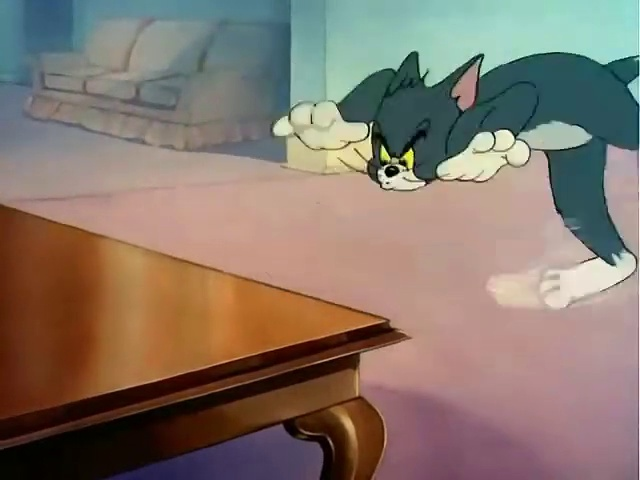tom: (275, 23, 633, 311)
